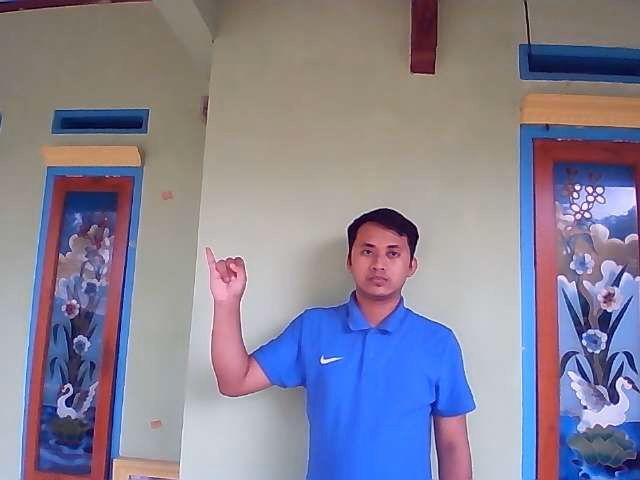I: (204, 246, 249, 298)
